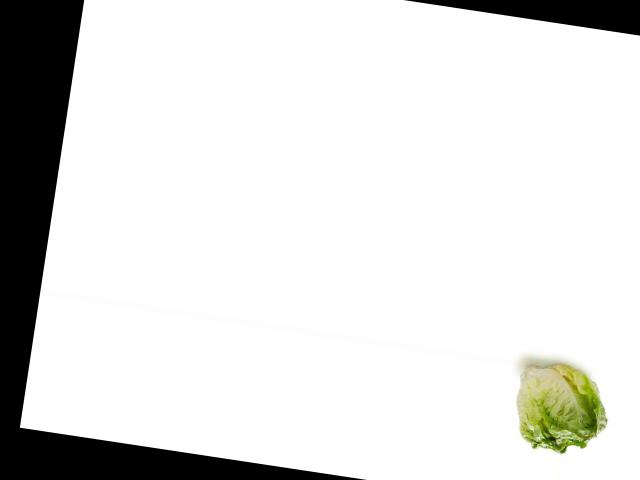lettuce: (503, 359, 619, 463)
